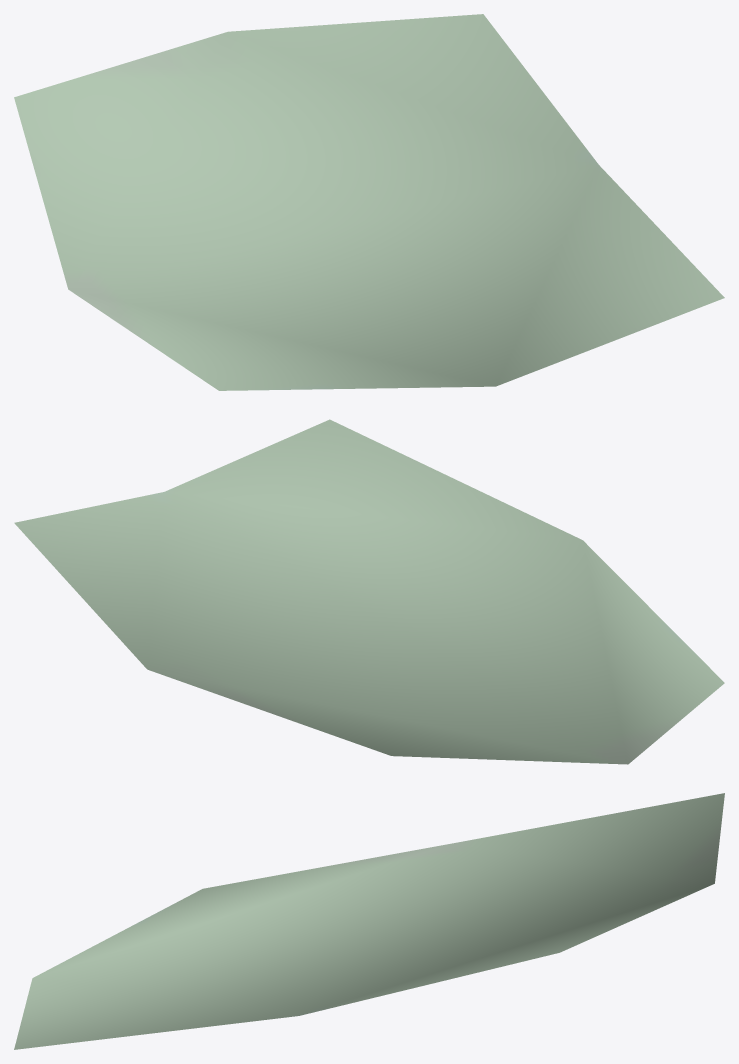
The model's file is TROLLHOLE02_HOLECAP180.fbx.
3 renders of one model, top to bottom at view 1: azimuth 30°, elevation 25°; view 2: azimuth 150°, elevation 25°; view 3: azimuth 270°, elevation 25°, orthographic. The views are drawn at different scales.
Visible parts, largest first — view 1: TROLLHOLE02_HOLECAP180; view 2: TROLLHOLE02_HOLECAP180; view 3: TROLLHOLE02_HOLECAP180.
Part boxes in pixels (bbox=[...]): TROLLHOLE02_HOLECAP180: bbox=[14, 14, 724, 390]; TROLLHOLE02_HOLECAP180: bbox=[14, 419, 724, 764]; TROLLHOLE02_HOLECAP180: bbox=[14, 793, 724, 1049].
Size of the model in its own units: 23836 by 7378 by 29274.
Materials: 1 (1 with a texture image).
